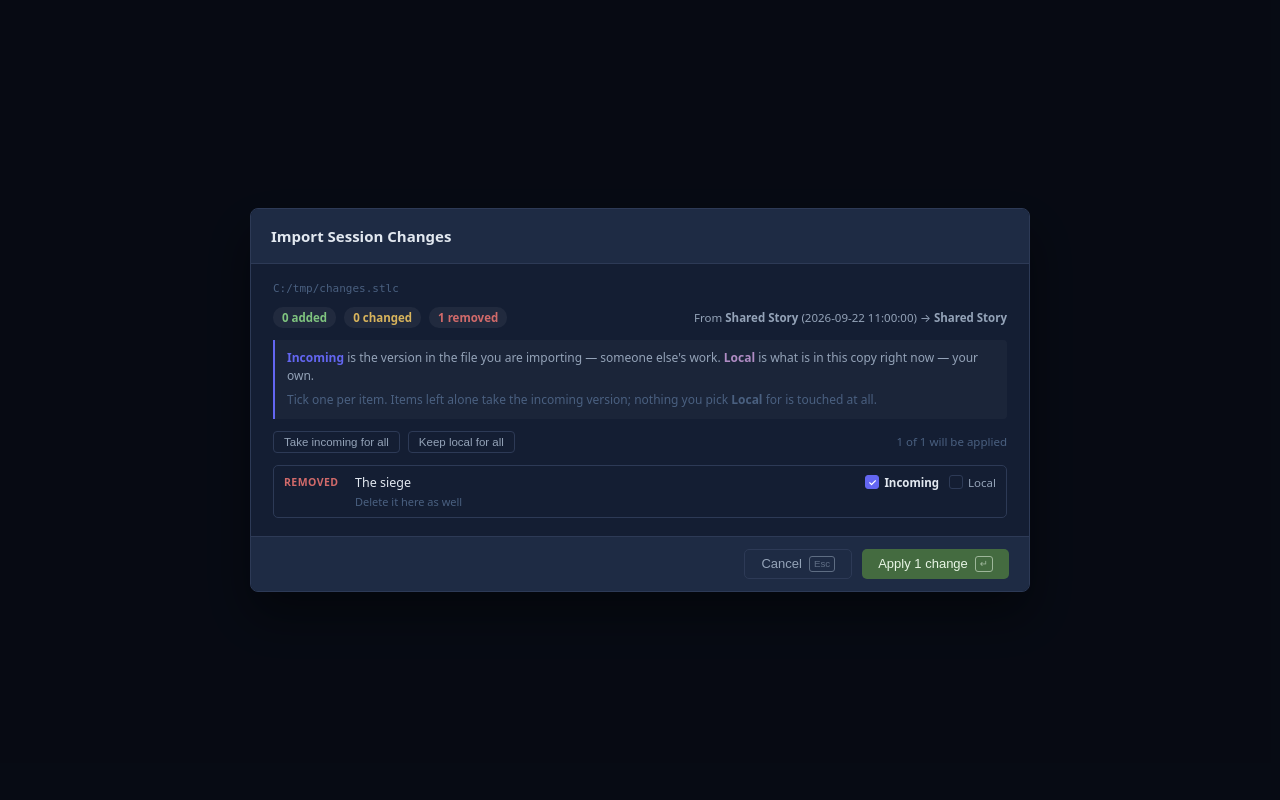
Test: SessionChangesImportModal › spells out what each side means for a delete
This screenshot has width=1280, height=800.
Expected: the text with class "entry-meaning" reads "Delete it here as well", x1=355 y1=494 x2=462 y2=509
Click the radio button labelled "✓ Local" at (973, 482), box x1=949 y1=475 x2=996 y2=490
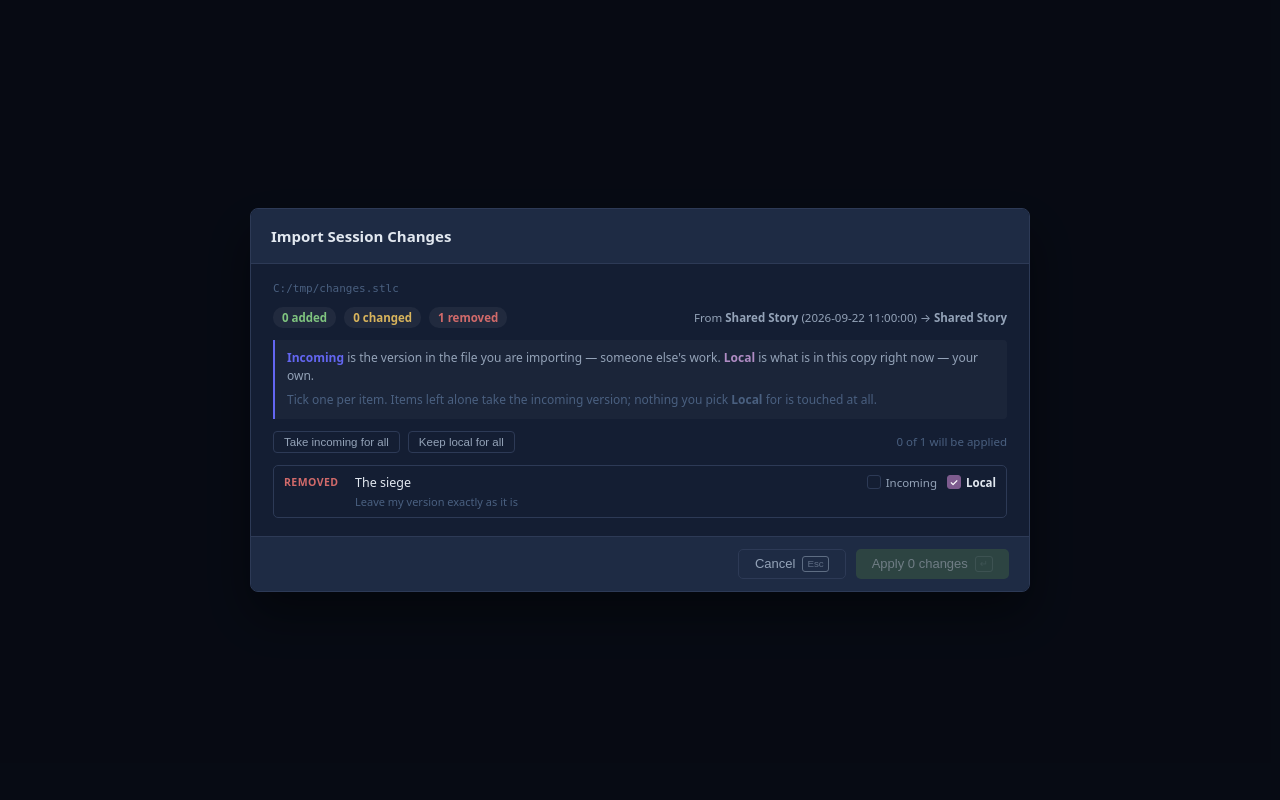
Expected: the text with class "entry-meaning" reads "Leave my version exactly as it is", x1=355 y1=494 x2=518 y2=509
